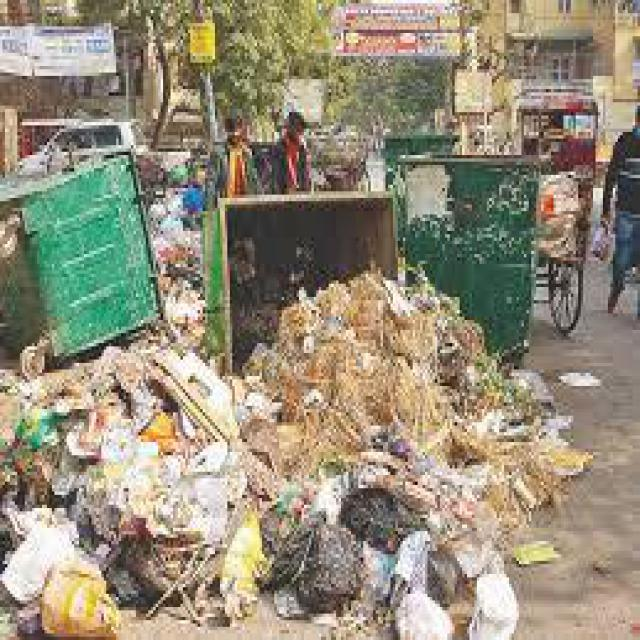garbage: (0, 277, 596, 637)
